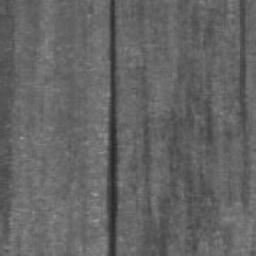Scratches: (107, 0, 118, 256)
